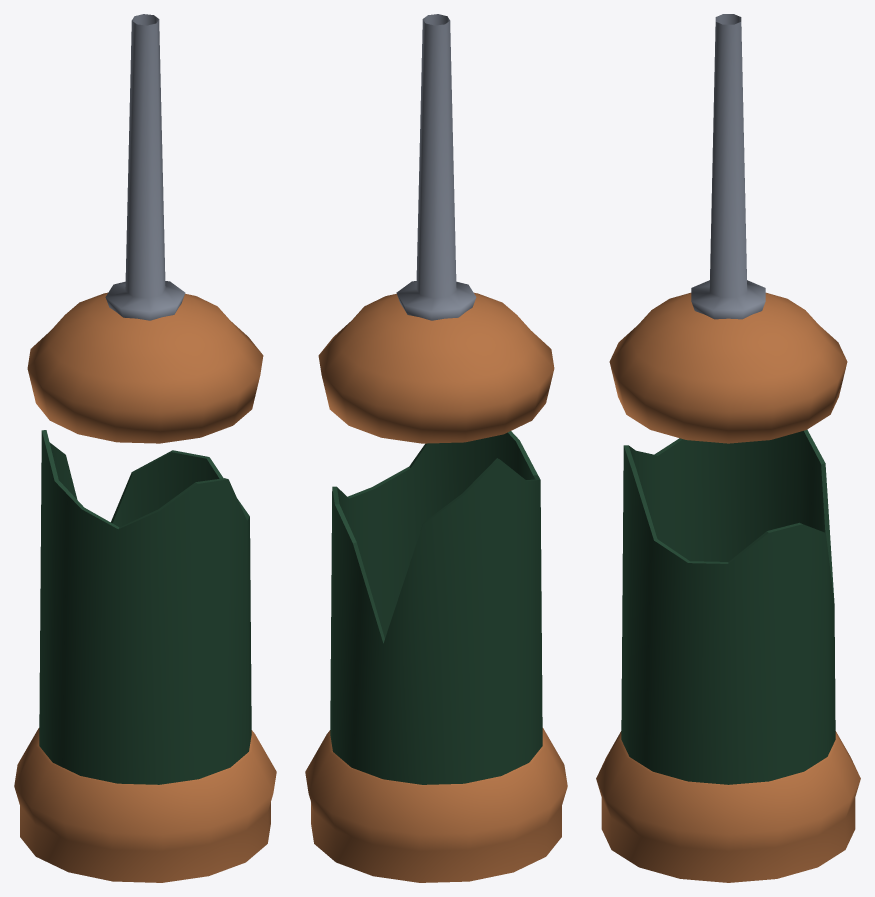
The model's file is lab_pod03.fbx.
The picture shows the model from 3 angles, left to right: view 1: azimuth 30°, elevation 25°; view 2: azimuth 150°, elevation 25°; view 3: azimuth 270°, elevation 25°; orthographic projection.
Parts seen in each view (by area): view 1: glass3, polySurface37, polySurface38, polySurface39; view 2: glass3, polySurface37, polySurface38, polySurface39; view 3: glass3, polySurface37, polySurface38, polySurface39.
Boxes of the visible parts, left/top/right/bottom form: glass3: left=39, top=430, right=251, bottom=784; polySurface37: left=27, top=292, right=263, bottom=443; polySurface38: left=14, top=728, right=276, bottom=882; polySurface39: left=105, top=14, right=185, bottom=320; glass3: left=330, top=431, right=542, bottom=784; polySurface37: left=318, top=292, right=554, bottom=443; polySurface38: left=305, top=728, right=567, bottom=882; polySurface39: left=396, top=14, right=476, bottom=320; glass3: left=621, top=429, right=835, bottom=784; polySurface37: left=609, top=292, right=847, bottom=443; polySurface38: left=596, top=731, right=860, bottom=882; polySurface39: left=691, top=14, right=765, bottom=319.
Size of the model in its own units: 3.3 by 11.13 by 3.3.
